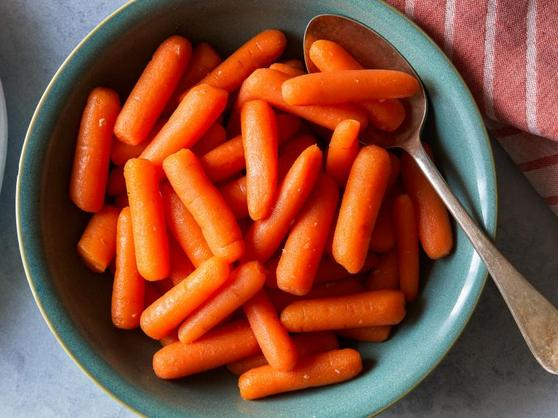carrot: (163, 154, 247, 266), (333, 144, 393, 275), (236, 341, 362, 399), (281, 70, 426, 117), (283, 290, 406, 330), (242, 100, 278, 218)
